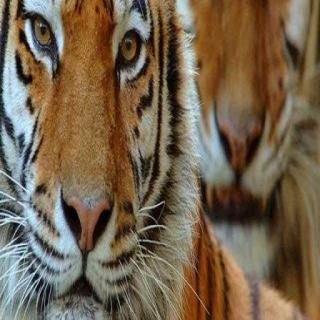Tiger: (0, 0, 224, 320)
